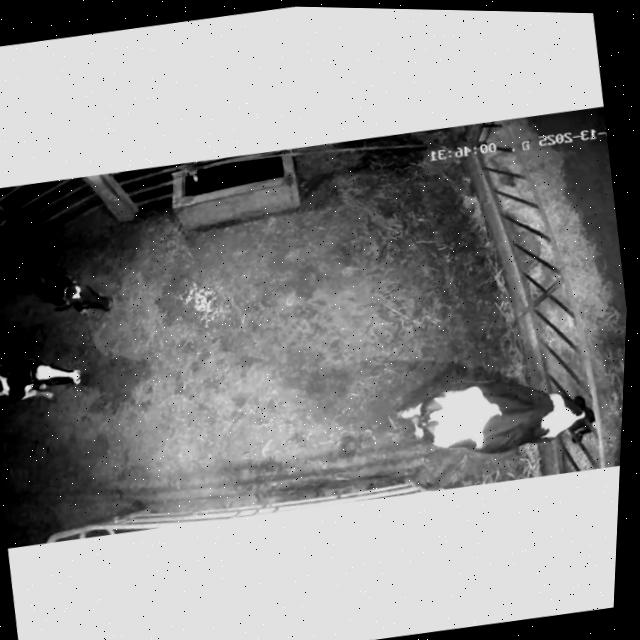stand: (0, 191, 141, 341), (0, 328, 107, 419)
